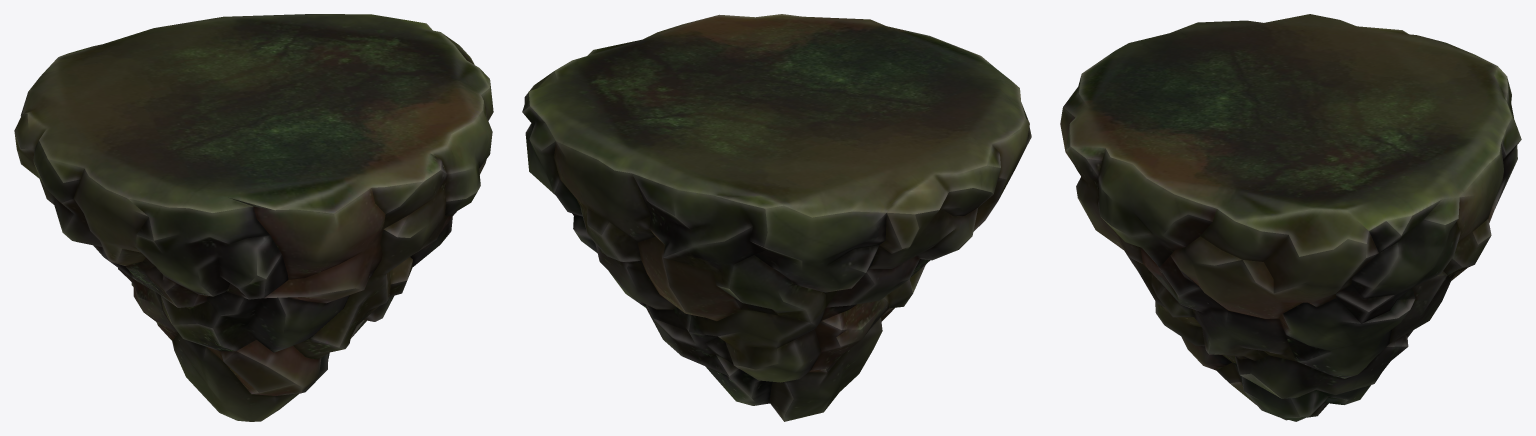
File: FlooorPlatform8.fbx
3 renders of one model, left to right at view 1: azimuth 30°, elevation 25°; view 2: azimuth 150°, elevation 25°; view 3: azimuth 270°, elevation 25°, orthographic.
Parts seen in each view (by area): view 1: FlotPlatform; view 2: FlotPlatform; view 3: FlotPlatform.
Boxes of the visible parts, x1,y1,x2,y2 form: FlotPlatform: (14,14,493,421); FlotPlatform: (522,14,1031,421); FlotPlatform: (1060,14,1521,421).
Bounding box in the file's own units: 14.77 × 10.01 × 13.33.
Materials: 1 (1 with a texture image).
